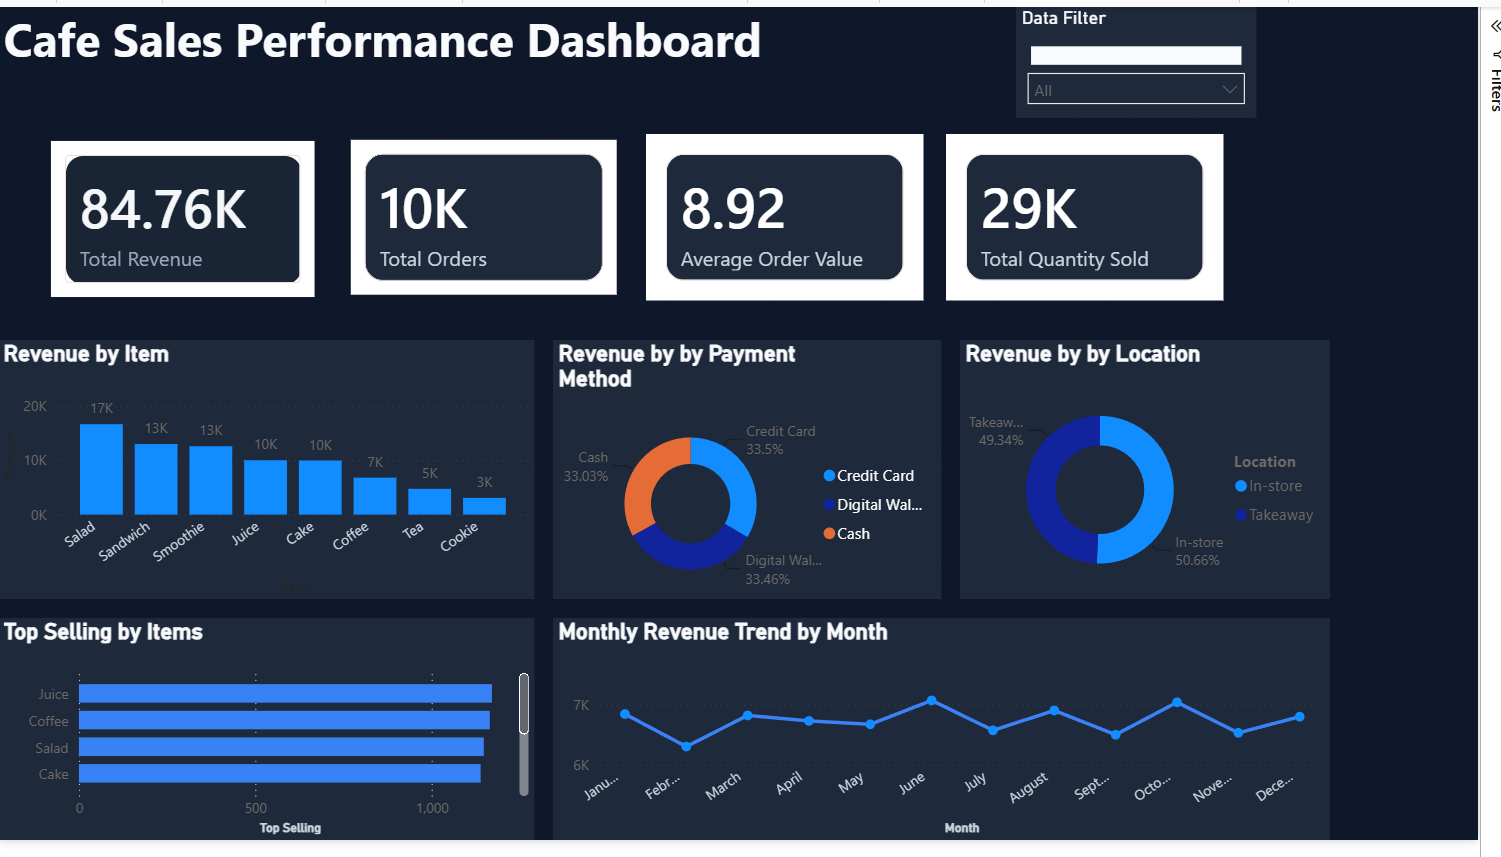

What the dashboard file says about the page in this screenshot:
{"tool":"powerbi","page":{"name":"Sales Overview","canvas":[1280,720],"ordinal":0},"visuals":[{"type":"cardVisual","fields":{"Data":["Sum(clean_data.Total Spent)"]},"box":[40,110,240,147],"z":0},{"type":"cardVisual","fields":{"Data":["Avg(clean_data.Total Spent)"]},"box":[560,110,240,144],"z":1000},{"type":"cardVisual","fields":{"Data":["Sum(clean_data.Quantity)"]},"box":[820,110,240,144],"z":2000},{"type":"cardVisual","fields":{"Data":["Count(clean_data.Transaction ID)"]},"box":[300,110,240,144],"z":3000},{"type":"clusteredColumnChart","fields":{"Category":["clean_data.Item"],"Y":["Sum(clean_data.Total Spent)"]},"box":[0,288,464,224],"z":4000},{"type":"donutChart","fields":{"Category":["clean_data.Payment Method"],"Y":["Sum(clean_data.Total Spent)"]},"box":[480,288,336,224],"z":5000},{"type":"donutChart","fields":{"Category":["clean_data.Location"],"Y":["Sum(clean_data.Total Spent)"]},"box":[832,288,320,224],"z":6000},{"type":"lineChart","fields":{"Category":["clean_data.Transaction Date.Variation.Date Hierarchy.Month"],"Y":["Sum(clean_data.Total Spent)"]},"box":[480,528,672,192],"z":7000},{"type":"clusteredBarChart","fields":{"Category":["clean_data.Item"],"Y":["CountNonNull(clean_data.Transaction ID)"]},"box":[0,528,464,192],"z":8000},{"type":"textbox","title":"Cafe Sales Performance Dashboard","box":[0,0,832,64],"z":9000},{"type":"slicer","title":"Data Filter","fields":{"Values":["clean_data.Transaction Date"]},"box":[880,0,208,96],"z":10000}]}

Visuals, with their boxes in screenshot pixels (x1, y1, x2, y2), scaled from the page's 1280x720 canvas onto the 1501x857 screenshot:
cardVisual - Sum(clean_data.Total Spent): l=47, t=131, r=328, b=306
cardVisual - Avg(clean_data.Total Spent): l=657, t=131, r=938, b=302
cardVisual - Sum(clean_data.Quantity): l=962, t=131, r=1243, b=302
cardVisual - Count(clean_data.Transaction ID): l=352, t=131, r=633, b=302
clusteredColumnChart - clean_data.Item x Sum(clean_data.Total Spent): l=0, t=343, r=544, b=609
donutChart - clean_data.Payment Method x Sum(clean_data.Total Spent): l=563, t=343, r=957, b=609
donutChart - clean_data.Location x Sum(clean_data.Total Spent): l=976, t=343, r=1351, b=609
lineChart - clean_data.Transaction Date.Variation.Date Hierarchy.Month x Sum(clean_data.Total Spent): l=563, t=628, r=1351, b=856
clusteredBarChart - clean_data.Item x CountNonNull(clean_data.Transaction ID): l=0, t=628, r=544, b=856
"Cafe Sales Performance Dashboard" textbox: l=0, t=0, r=976, b=76
"Data Filter" slicer: l=1032, t=0, r=1276, b=114
